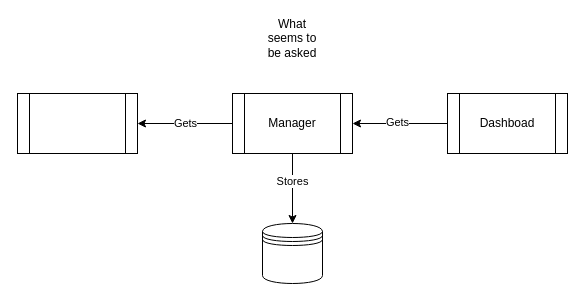
Image size: 585x301. Some labels were removed from this diagram. The centre of each missing label's shape, as x and y in pixels:
db: point 292,253
Mock data: point 77,123
